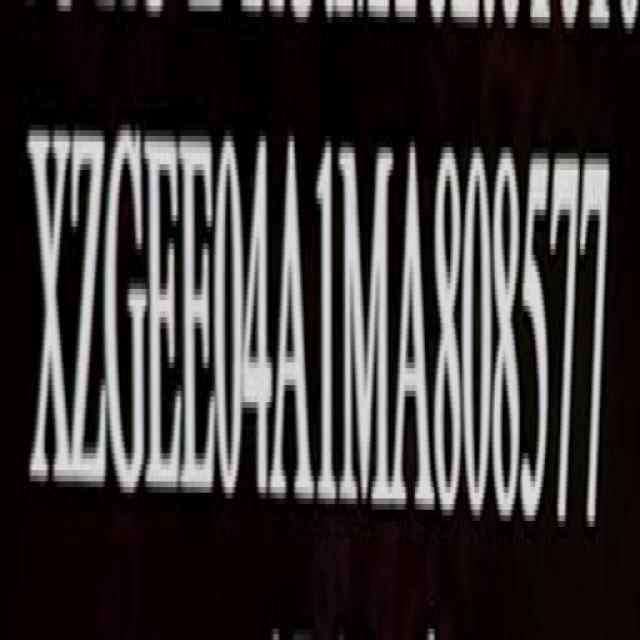0: (460, 145, 490, 523), (216, 128, 243, 493)
1: (315, 145, 339, 508)
3: (521, 144, 554, 532)
4: (240, 131, 274, 506)
7: (582, 148, 616, 536), (552, 146, 582, 534)
8: (429, 143, 465, 519), (492, 148, 524, 526)
A: (274, 134, 315, 511), (393, 138, 433, 516)
E: (145, 123, 182, 502)
F: (182, 128, 217, 499)
G: (108, 124, 148, 501)
M: (340, 141, 394, 512)
X: (30, 123, 73, 497)
Z: (66, 124, 106, 496)
